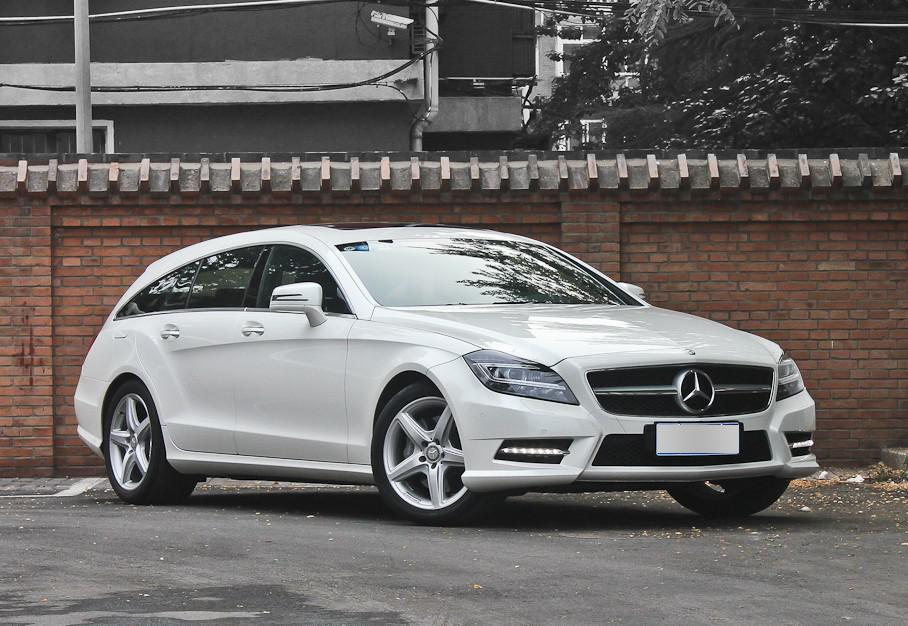Wagon: (70, 219, 822, 526)
